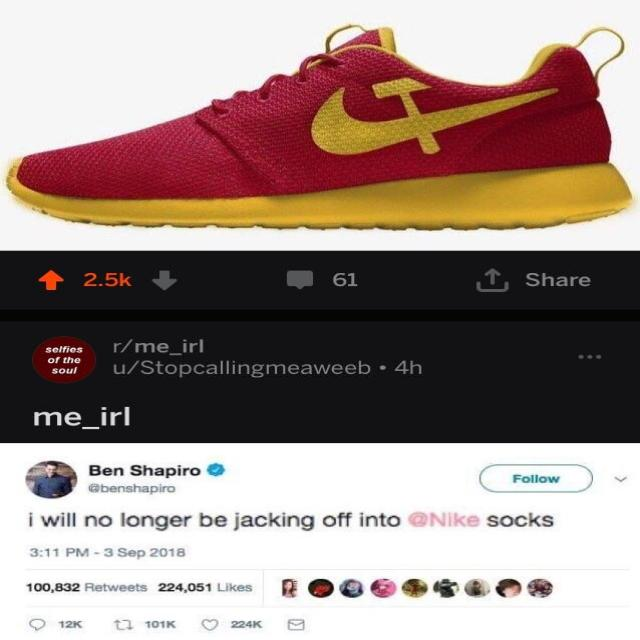shoe: (0, 13, 638, 236)
